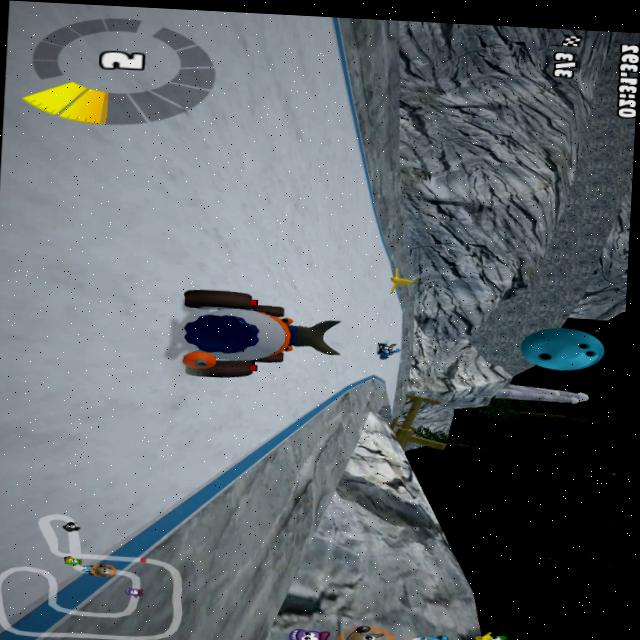enemy_kart: (371, 340, 400, 360)
obstacle: (379, 263, 411, 294)
player_kart: (154, 279, 341, 389)
track: (0, 1, 348, 287), (0, 273, 151, 540), (336, 223, 380, 377), (151, 378, 300, 422), (145, 414, 259, 456), (359, 292, 411, 339), (144, 448, 201, 481), (346, 170, 376, 222), (379, 360, 403, 399), (136, 483, 171, 507)
